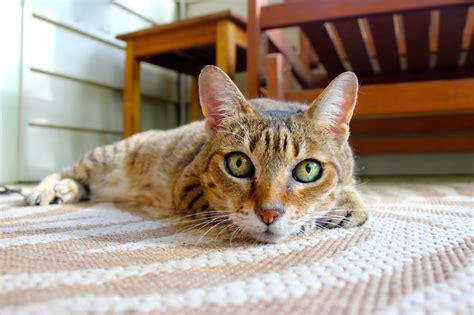cat: (25, 66, 365, 241)
